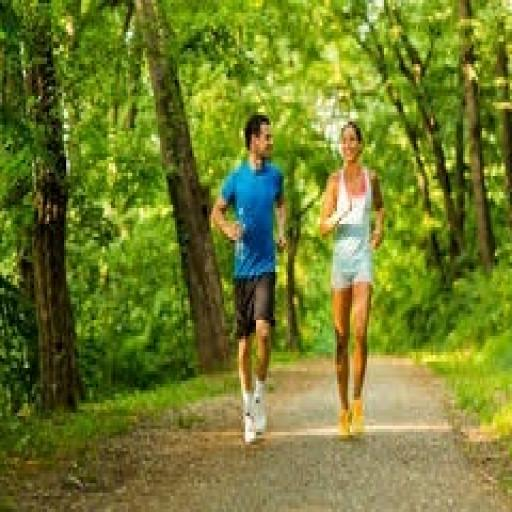running: (207, 109, 290, 448), (316, 118, 388, 442)
